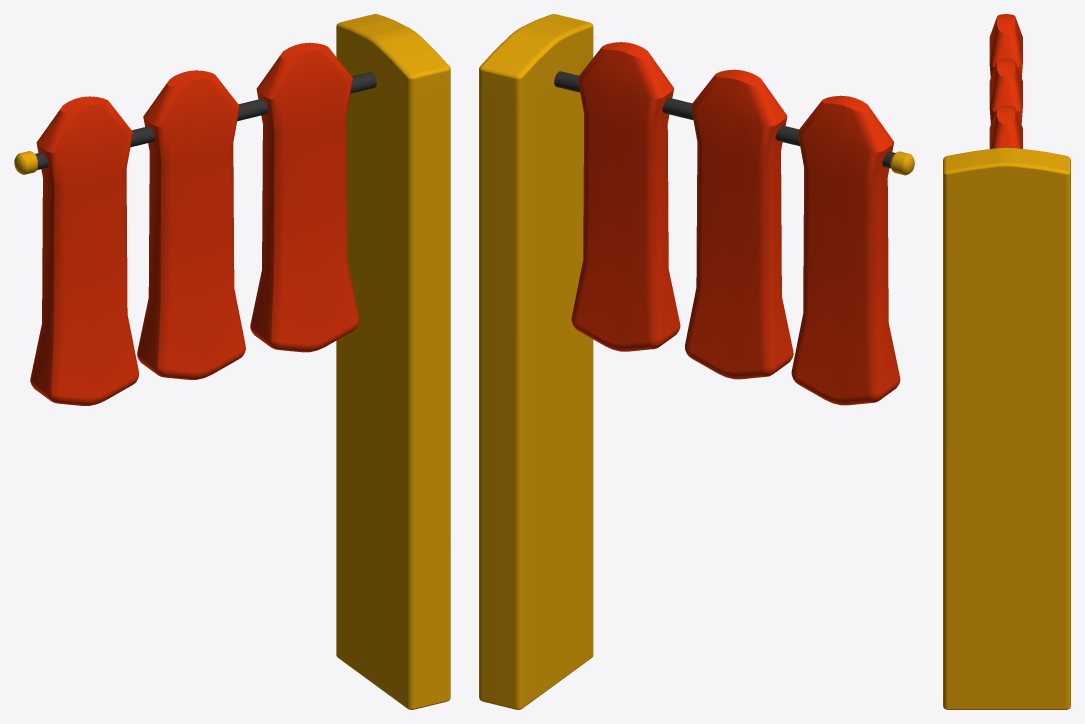
3 views of the same model, side by side, from view 1: azimuth 30°, elevation 25°; view 2: azimuth 150°, elevation 25°; view 3: azimuth 270°, elevation 25° (orthographic). The views are drawn at different scales.
Visible parts, largest first — view 1: polySurface144, polySurface136; view 2: polySurface144, polySurface136; view 3: polySurface136, polySurface144.
Part boxes in pixels (<box>): polySurface144: <box>14,42,376,405</box>; polySurface136: <box>336,14,450,709</box>; polySurface144: <box>554,42,914,405</box>; polySurface136: <box>479,14,593,709</box>; polySurface136: <box>943,147,1070,709</box>; polySurface144: <box>989,14,1022,148</box>.
Size of the model in its own units: 3.91 by 6.12 by 1.28.
